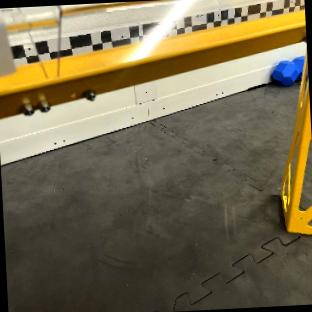V5_BLUE: (272, 56, 303, 84)
